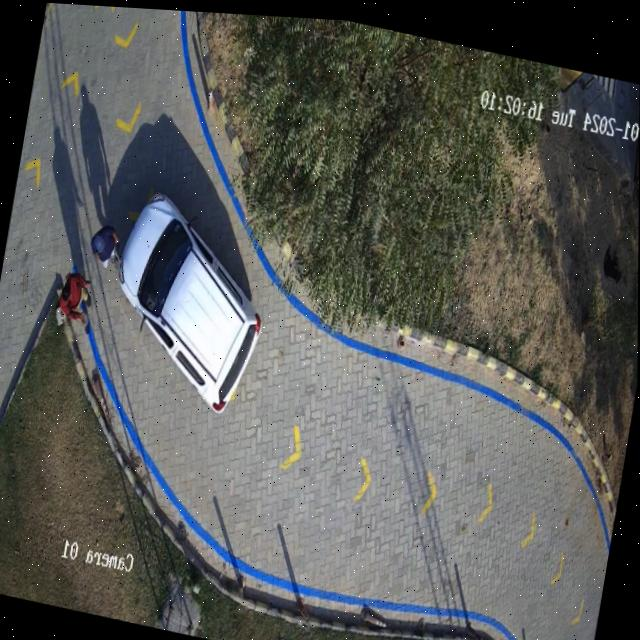car: (117, 189, 265, 410)
